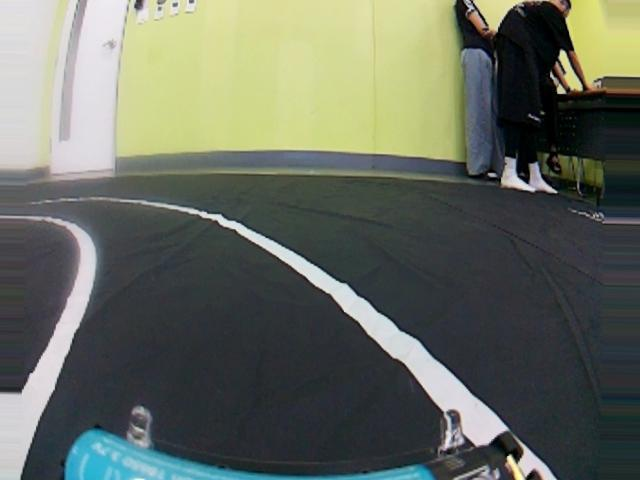straight: (1, 189, 587, 480)
